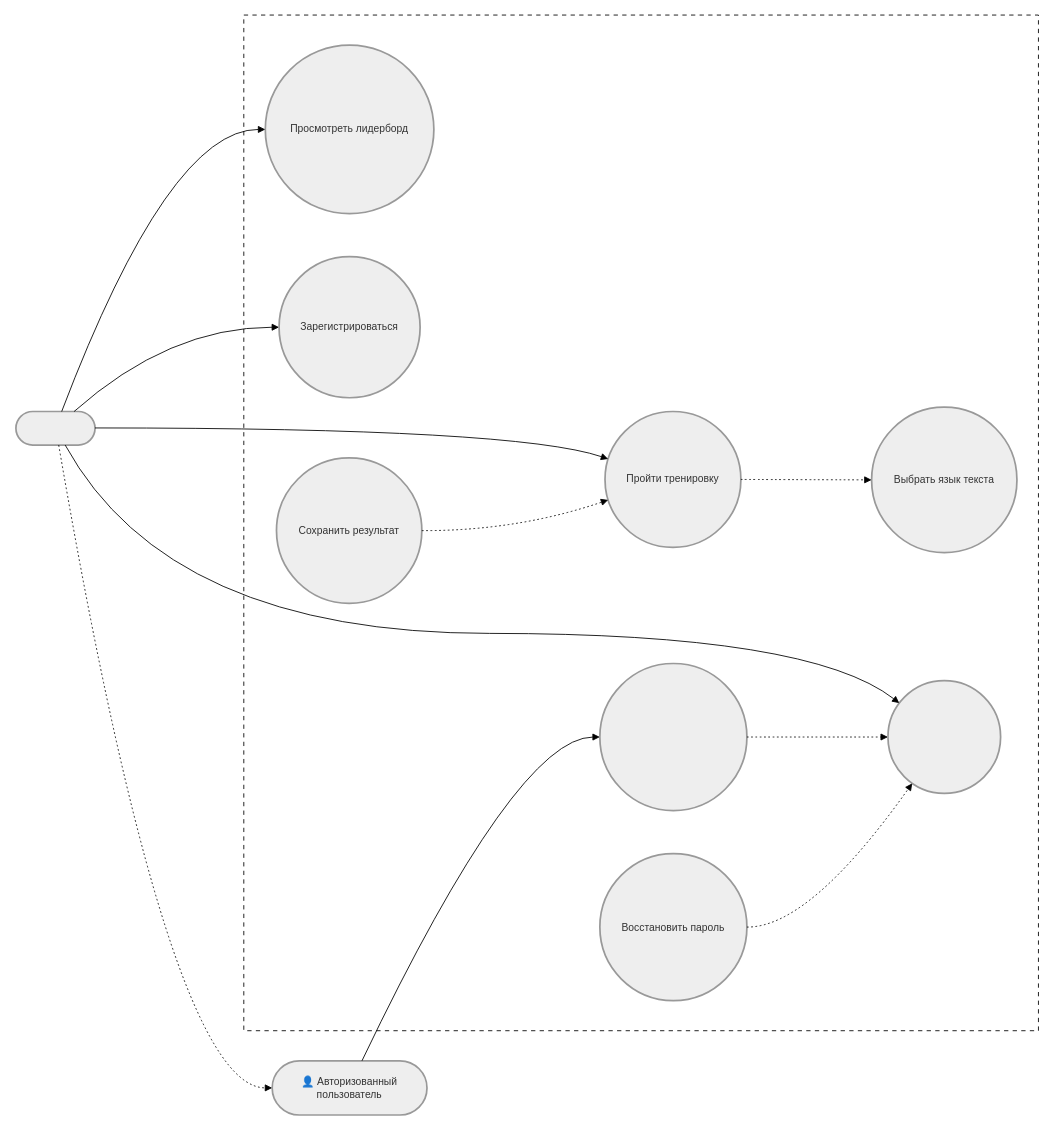
The diagram is 1054 pixels wide and 1131 high, and some of its shapes have lost their labels. Here are the shapes that lost their labels. From the top down, the centre of each, then its label:
At pixel 55 427: "👤 Гость".
At pixel 673 736: "Просмотреть личный кабинет".
At pixel 944 736: "Авторизоваться".
